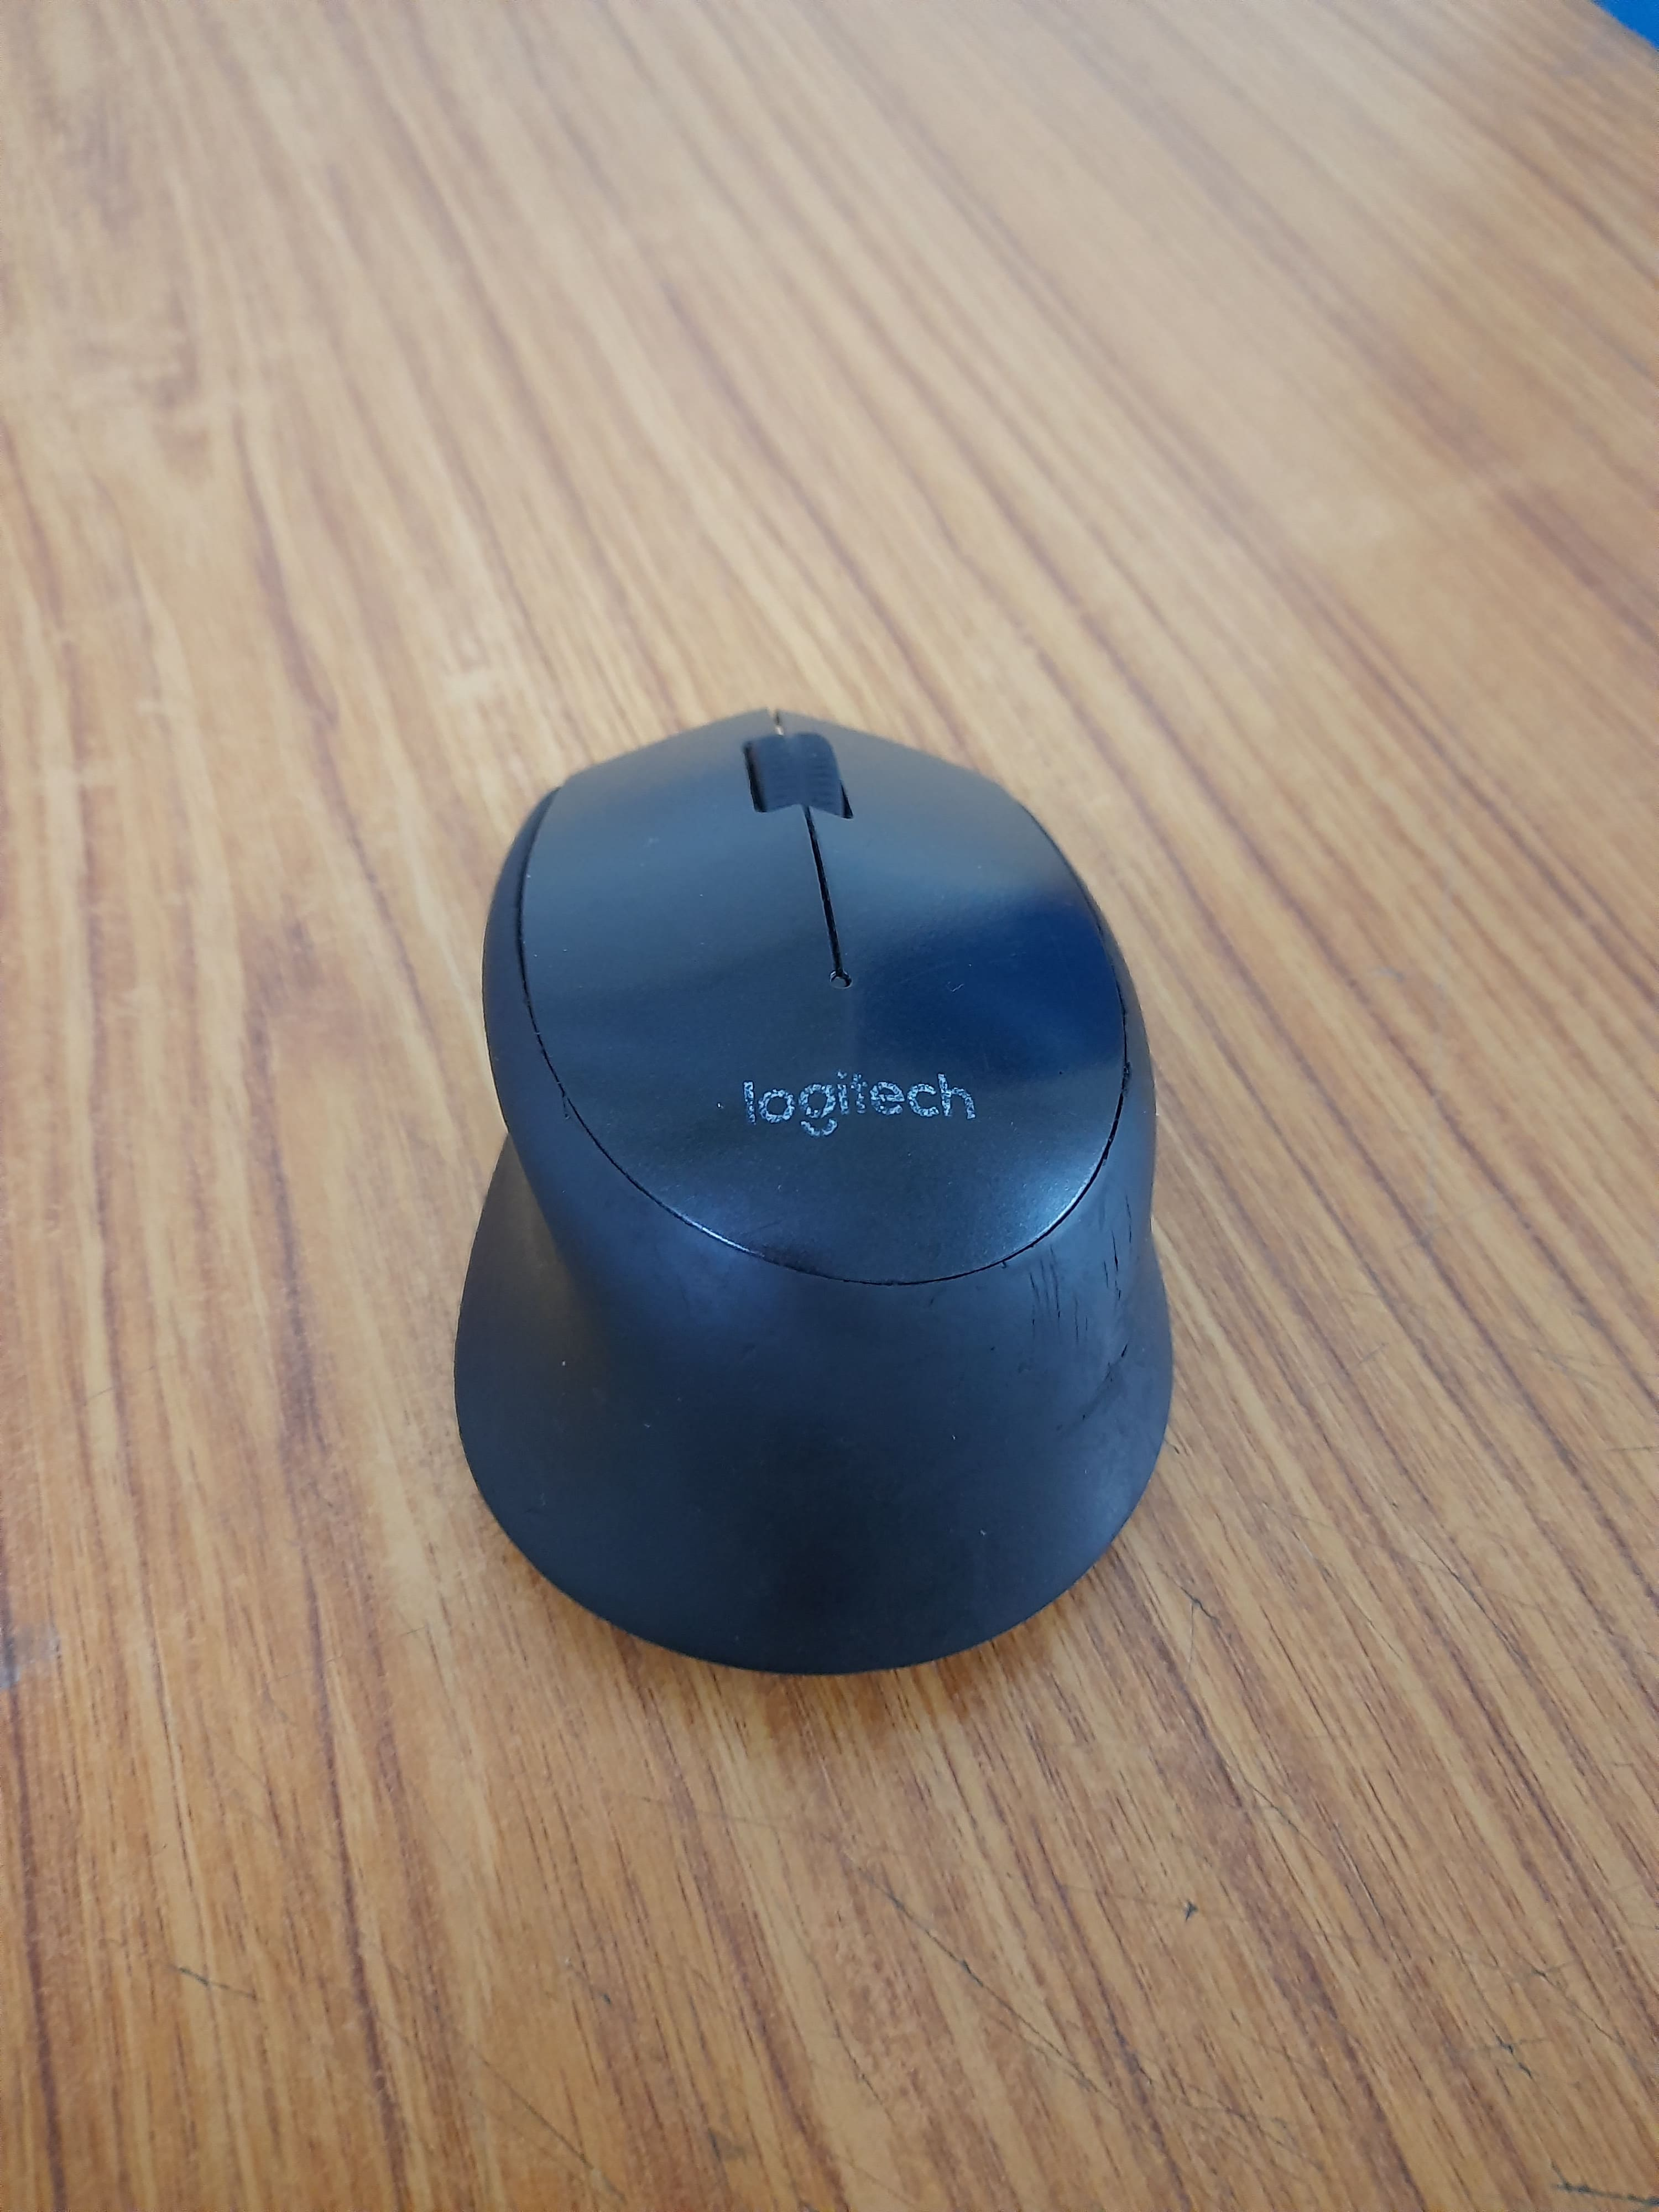Vikash's Mouse: (450, 693, 1185, 1714)
